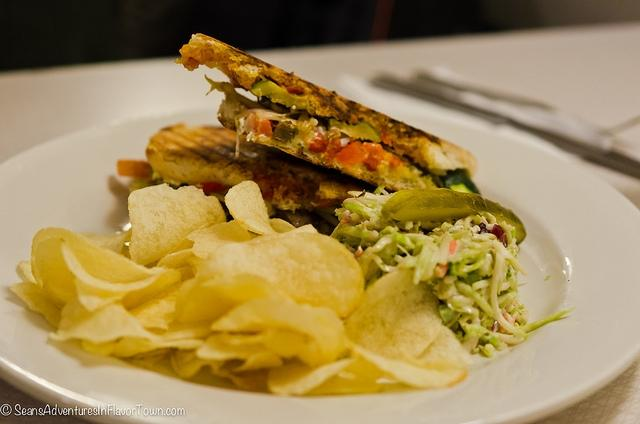tomato: (362, 142, 409, 172), (335, 142, 365, 165), (308, 132, 328, 153), (200, 182, 228, 194), (327, 138, 341, 162), (257, 118, 273, 138)
